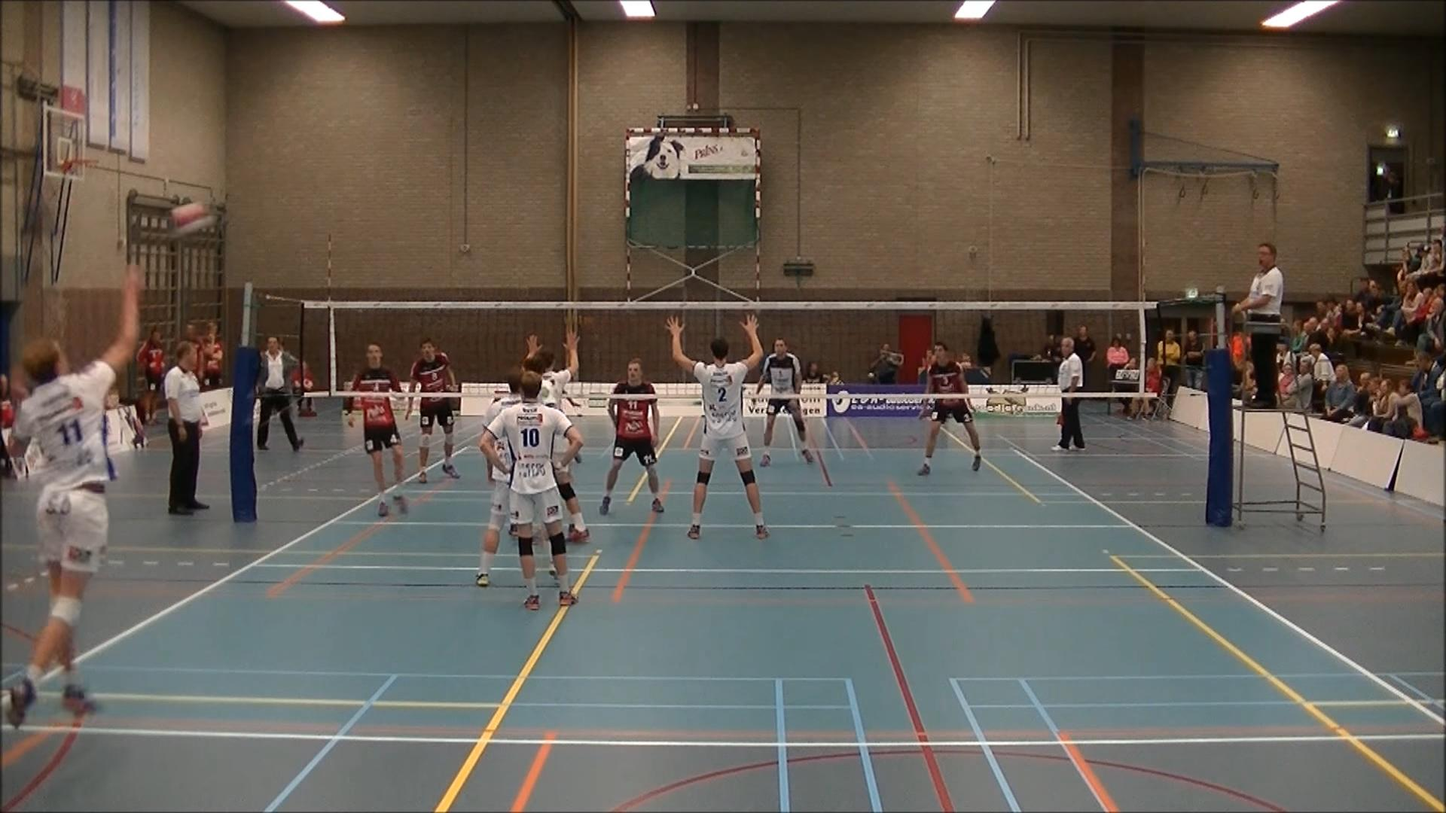Player: (480, 370, 583, 610), (666, 315, 768, 539), (344, 343, 407, 516), (600, 358, 663, 515), (917, 343, 981, 475), (755, 338, 812, 466), (475, 444, 511, 586), (523, 330, 579, 408), (417, 394, 459, 482)
Serve: (0, 256, 148, 726)
ball: (162, 184, 212, 248)
